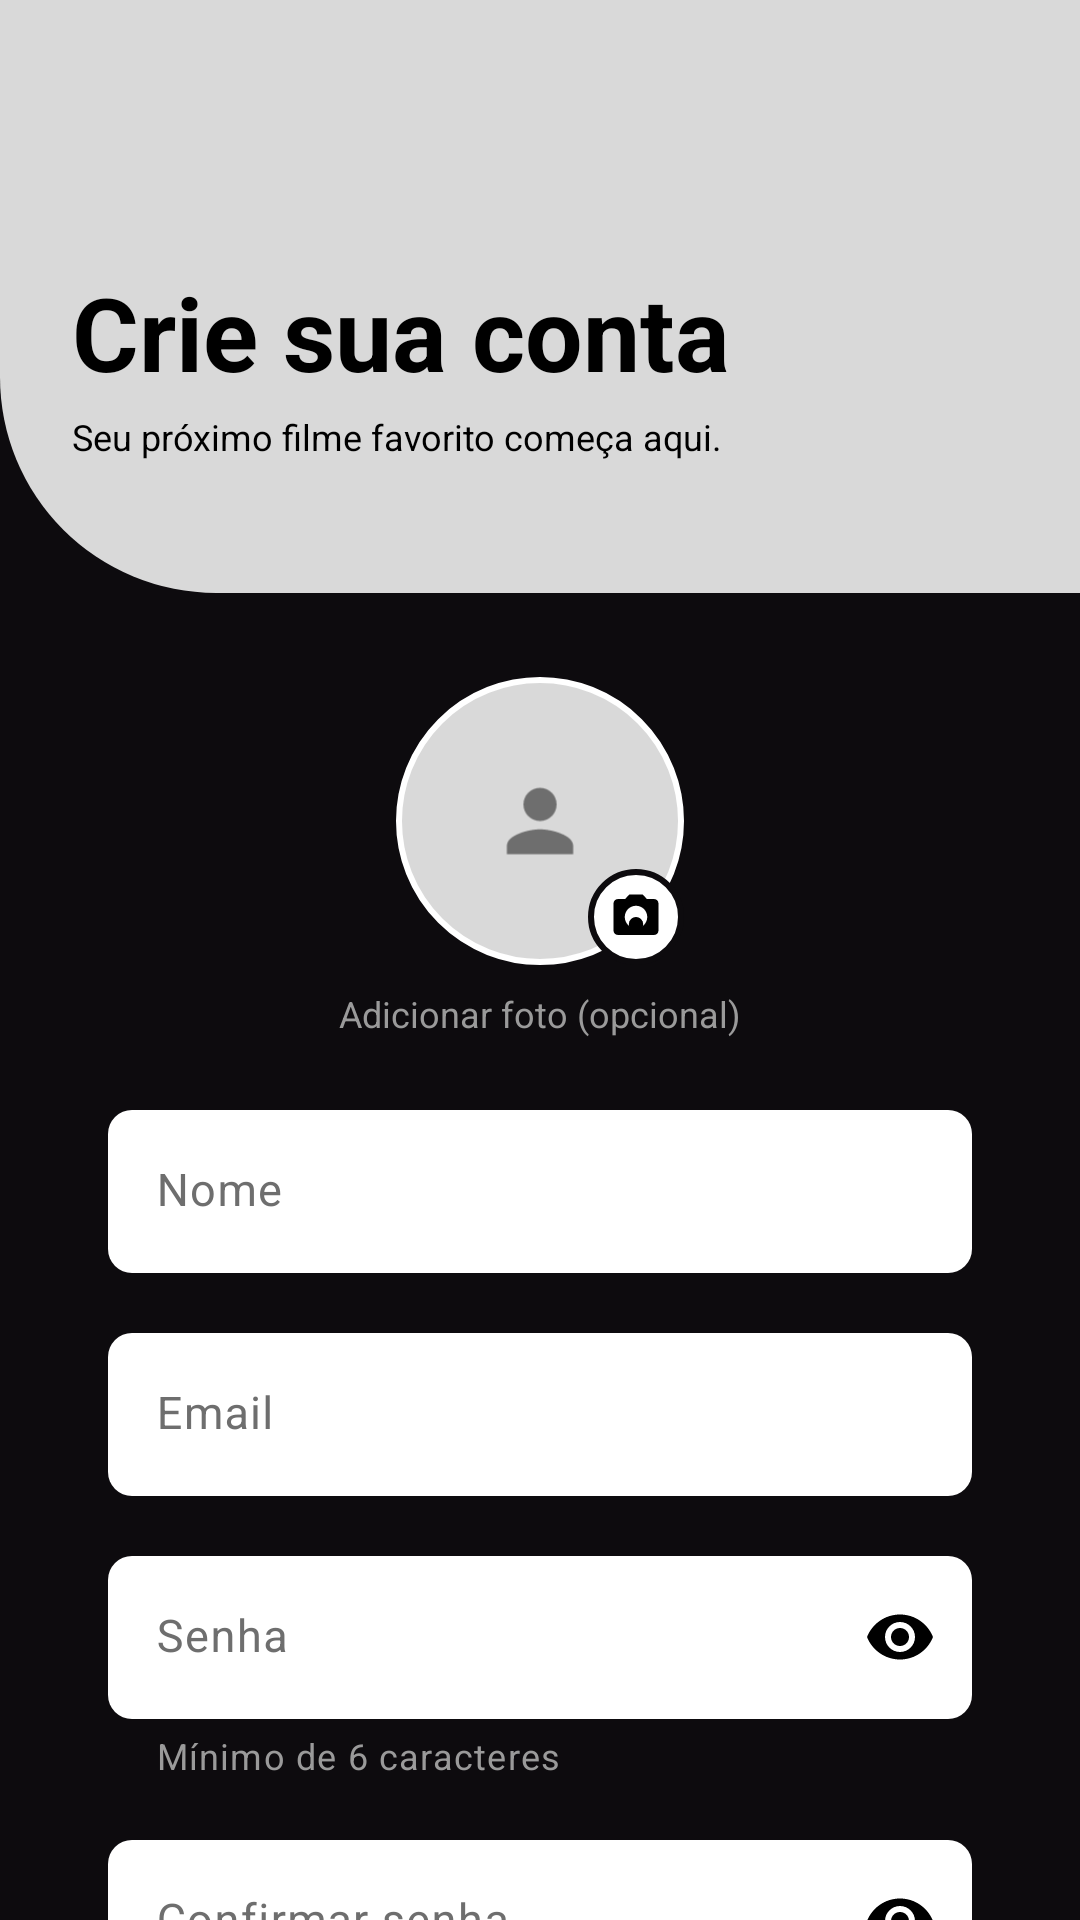

Icons on this 1080 x 1920 Android screen, each with the point to tap as (x,y):
camera: (636,917)
